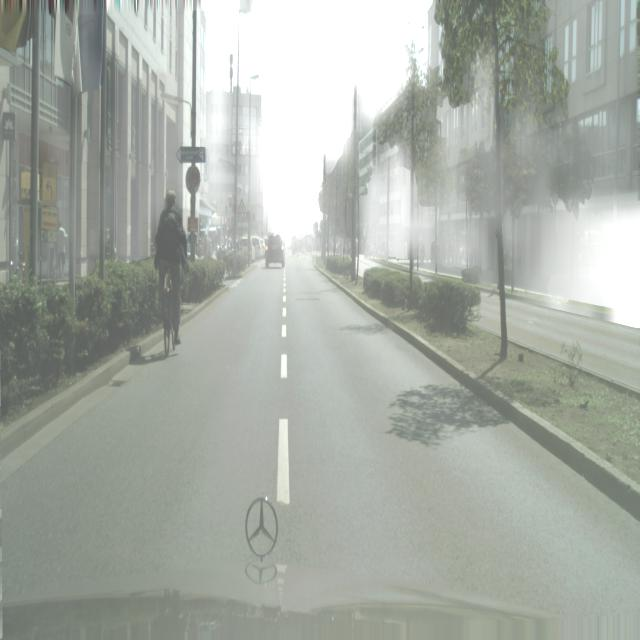car: (151, 187, 190, 356)
truck: (265, 232, 286, 269), (251, 236, 265, 258)
